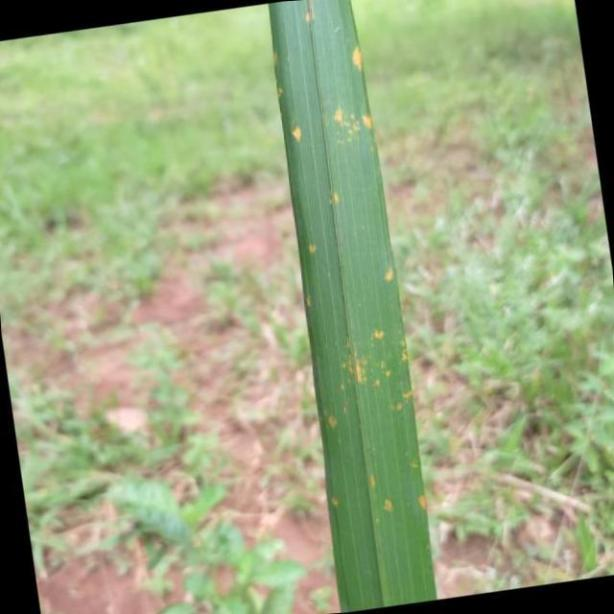Kalium: (267, 0, 440, 608)
